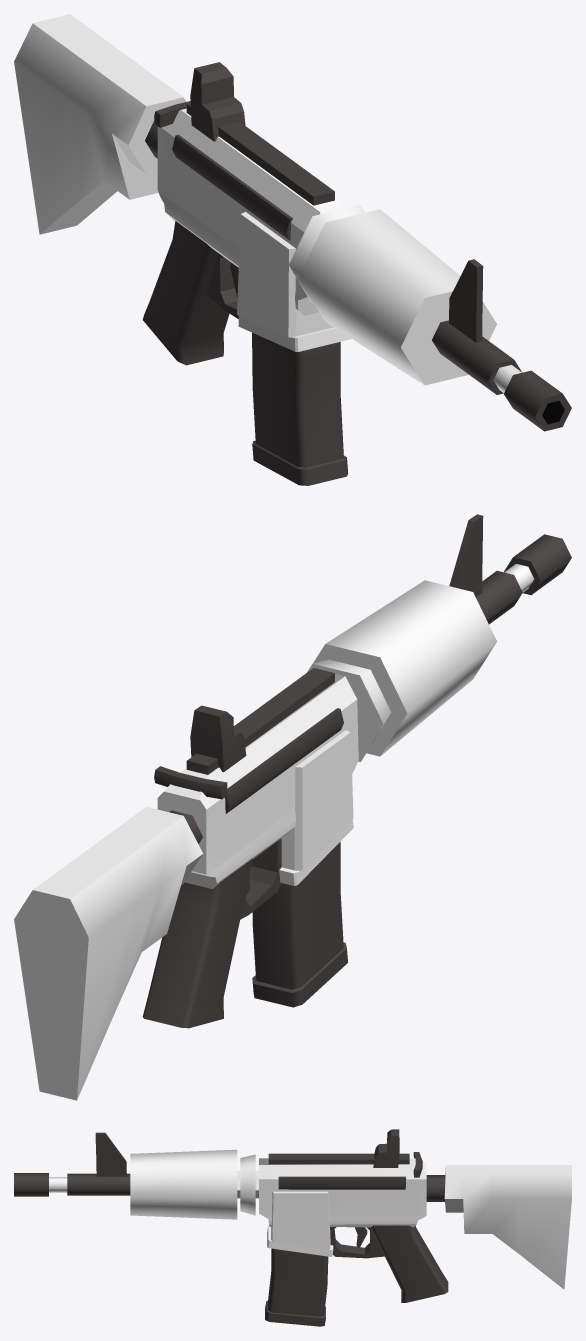
3 renders of one model, top to bottom at view 1: azimuth 30°, elevation 25°; view 2: azimuth 150°, elevation 25°; view 3: azimuth 270°, elevation 25°, orthographic. The views are drawn at different scales.
Visible parts, largest first — view 1: M4, M4Magazine; view 2: M4, M4Magazine; view 3: M4, M4Magazine.
Part boxes in pixels (x1,y1,x2,y2): M4: (14, 14, 571, 431); M4Magazine: (252, 332, 348, 485); M4: (14, 514, 571, 1100); M4Magazine: (252, 842, 347, 1007); M4: (14, 1129, 571, 1302); M4Magazine: (265, 1248, 328, 1326).
Size of the model in its own units: 12.03 by 35.49 by 95.44.
